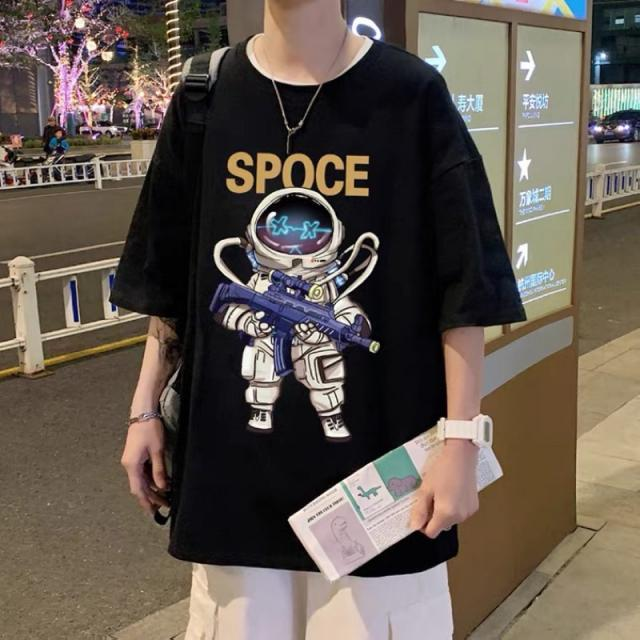Shirt: (109, 39, 528, 578)
